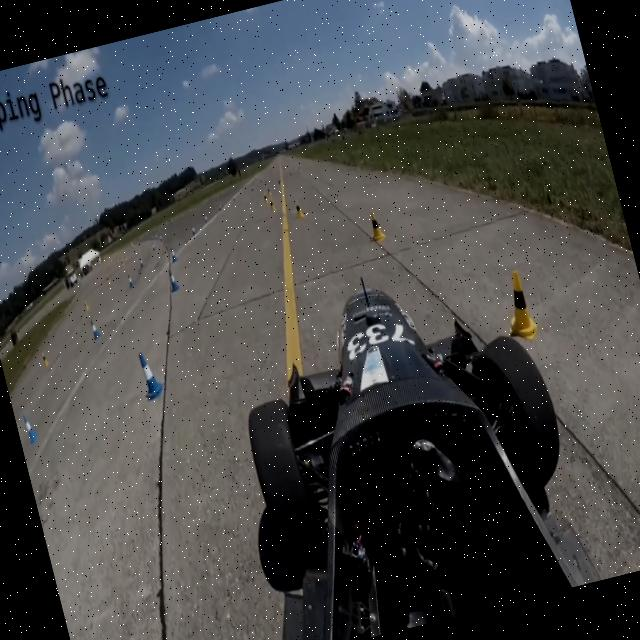blue_cone: (134, 345, 168, 401), (20, 412, 40, 446), (87, 315, 103, 341), (166, 268, 180, 292), (169, 246, 178, 262), (126, 272, 134, 288), (138, 255, 144, 269), (190, 224, 197, 236)
yellow_cone: (494, 265, 540, 345), (364, 206, 386, 244), (293, 200, 305, 220), (40, 351, 50, 367), (268, 198, 276, 212), (82, 299, 90, 312), (262, 192, 270, 204), (266, 188, 272, 198)
